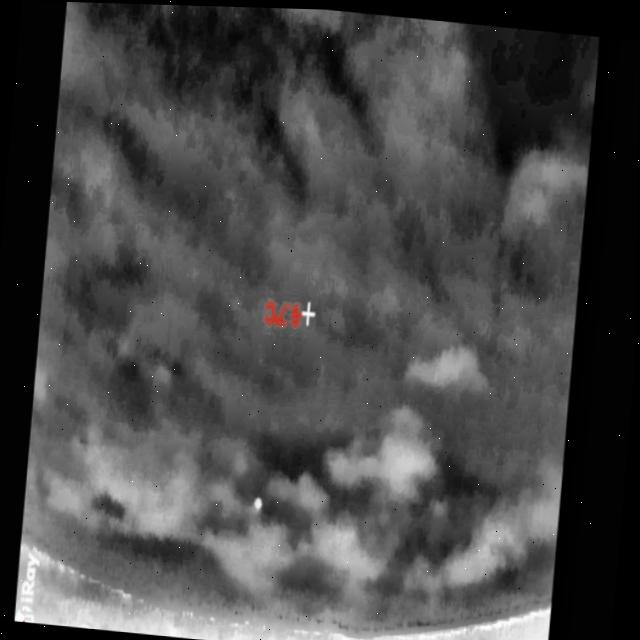drone: (255, 493, 264, 511)
